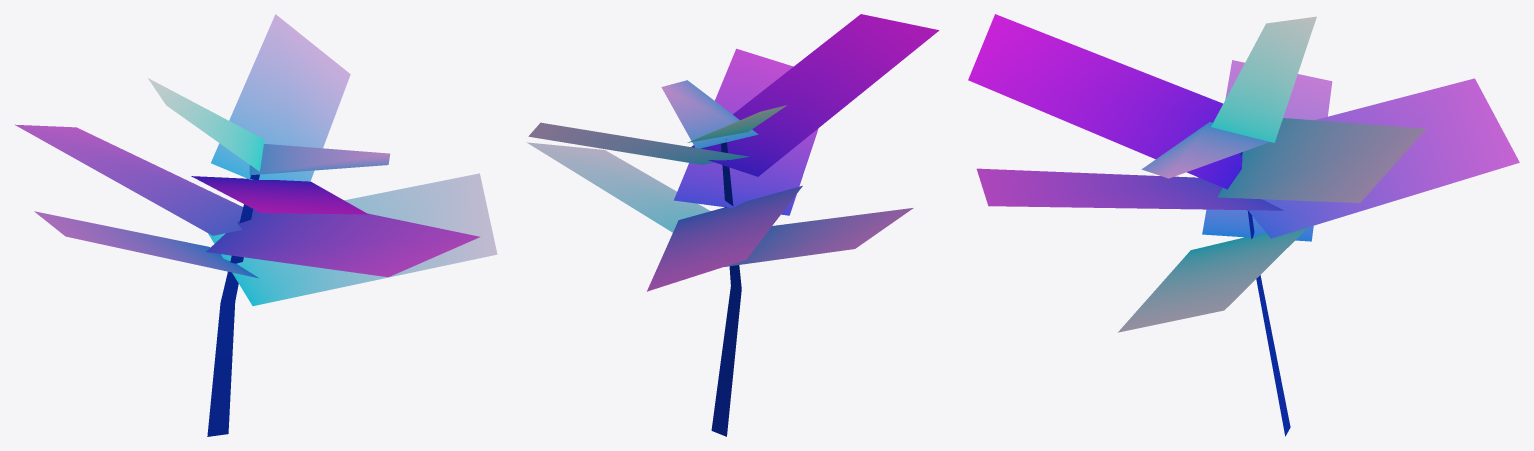
File: Common_Hemp_Nettle_xh1kdfbqx_Mid_xh1kdfbqx_VarA_LOD2.fbx
The picture shows the model from 3 angles, left to right: view 1: azimuth 30°, elevation 25°; view 2: azimuth 150°, elevation 25°; view 3: azimuth 270°, elevation 25°; orthographic projection. The views are drawn at different scales.
Parts seen in each view (by area): view 1: _kxk6_VarA_LOD4; view 2: _kxk6_VarA_LOD4; view 3: _kxk6_VarA_LOD4.
Boxes of the visible parts, x1,y1,x2,y2 form: _kxk6_VarA_LOD4: [15, 14, 497, 436]; _kxk6_VarA_LOD4: [526, 14, 939, 436]; _kxk6_VarA_LOD4: [968, 14, 1519, 436].
Bounding box in the file's own units: 45.88 × 38.63 × 50.04.
